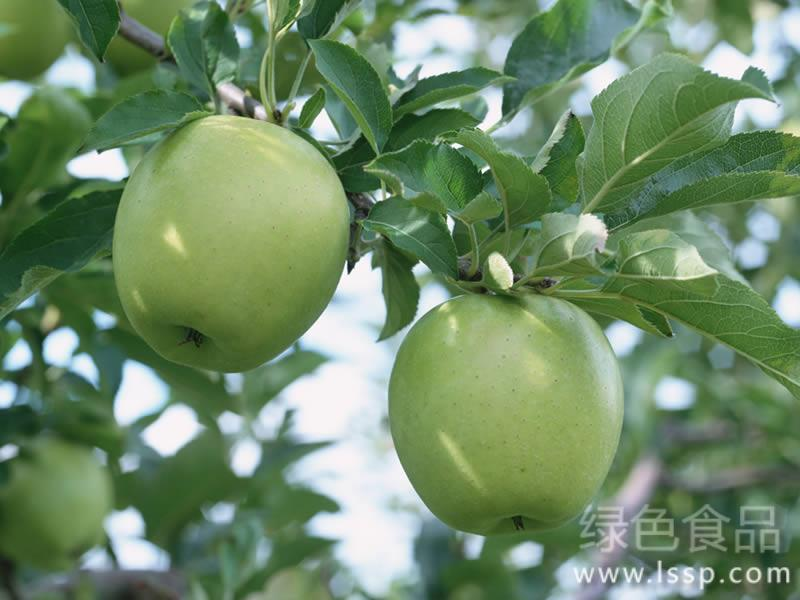apple: (113, 116, 354, 373), (386, 291, 626, 537)
